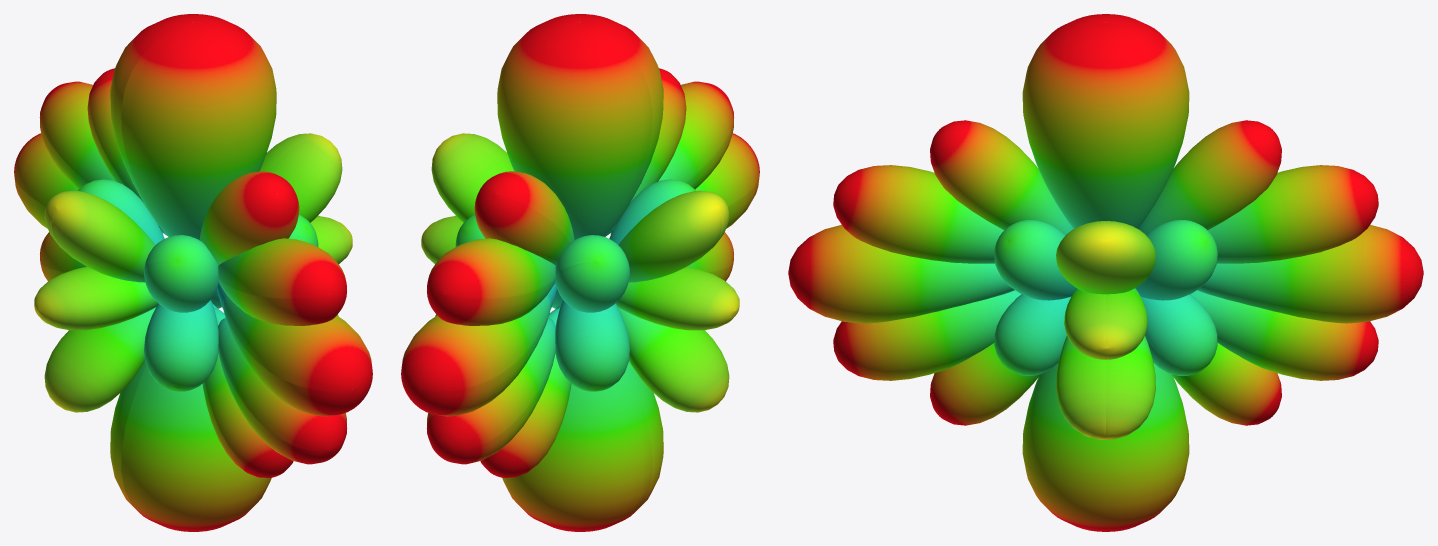
The model's file is ronghe.glb.
3 renders of one model, left to right at view 1: azimuth 30°, elevation 25°; view 2: azimuth 150°, elevation 25°; view 3: azimuth 270°, elevation 25°, orthographic.
Parts seen in each view (by area): view 1: 球体.001; view 2: 球体.001; view 3: 球体.001.
Boxes of the visible parts, x1=… form: 球体.001: x1=14, y1=14, x2=372, y2=531; 球体.001: x1=401, y1=14, x2=759, y2=531; 球体.001: x1=788, y1=14, x2=1423, y2=531.
Size of the model in its own units: 2.29 by 3.53 by 4.06.
26 materials, 26 textured.
